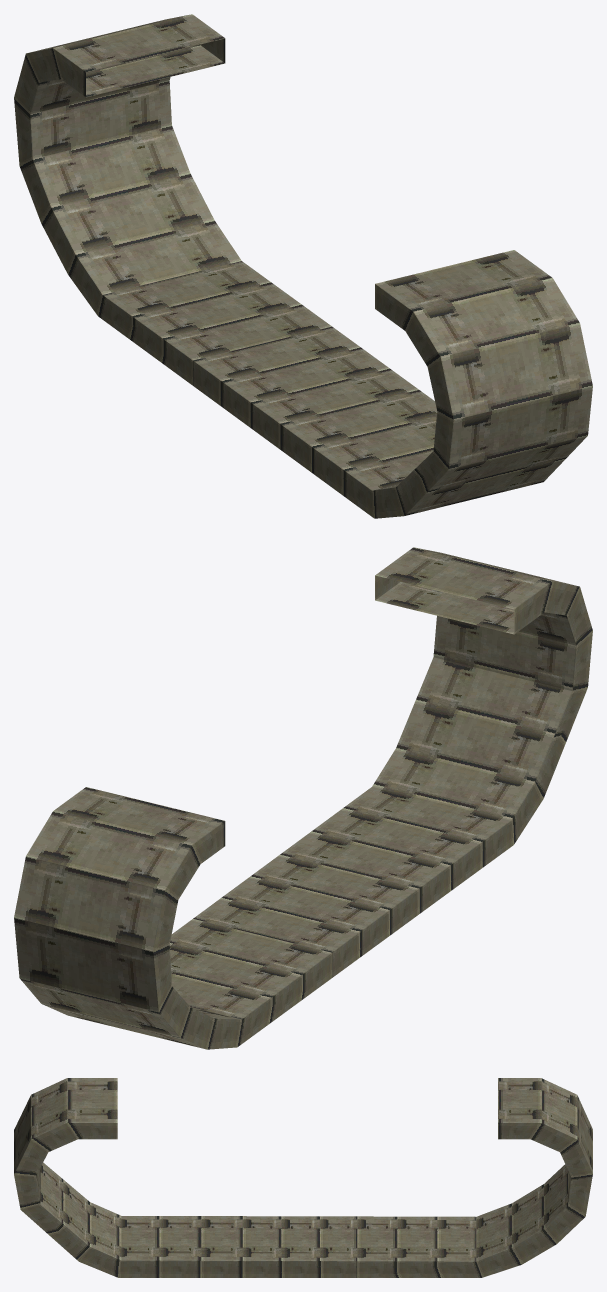
File: VWFHTNKH_TRAC_R.bgf.obj
3 views of the same model, one above another, from view 1: azimuth 30°, elevation 25°; view 2: azimuth 150°, elevation 25°; view 3: azimuth 270°, elevation 25° (orthographic). The views are drawn at different scales.
Parts seen in each view (by area): view 1: R_TRACK; view 2: R_TRACK; view 3: R_TRACK.
Boxes of the visible parts, bbox=[...] form: R_TRACK: bbox=[14, 14, 592, 518]; R_TRACK: bbox=[14, 547, 592, 1049]; R_TRACK: bbox=[14, 1078, 592, 1277].
Size of the model in its own units: 0.988 by 1.59 by 5.4.
Materials: 1 (1 with a texture image).
